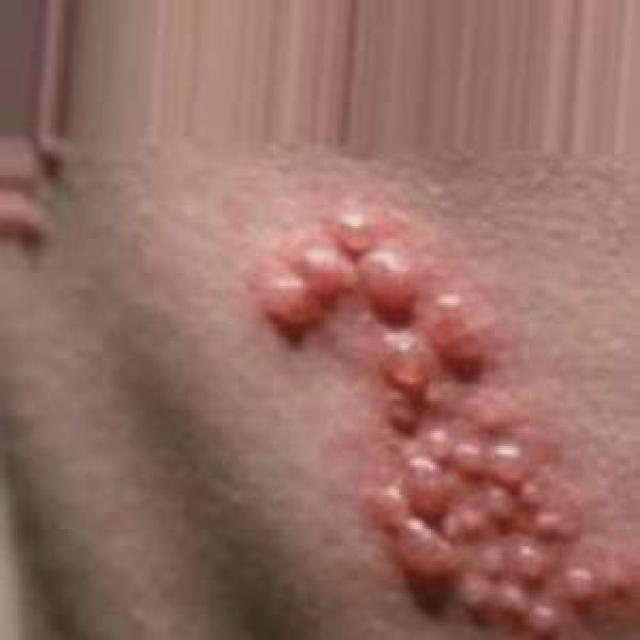Shingles: (252, 200, 597, 636)
